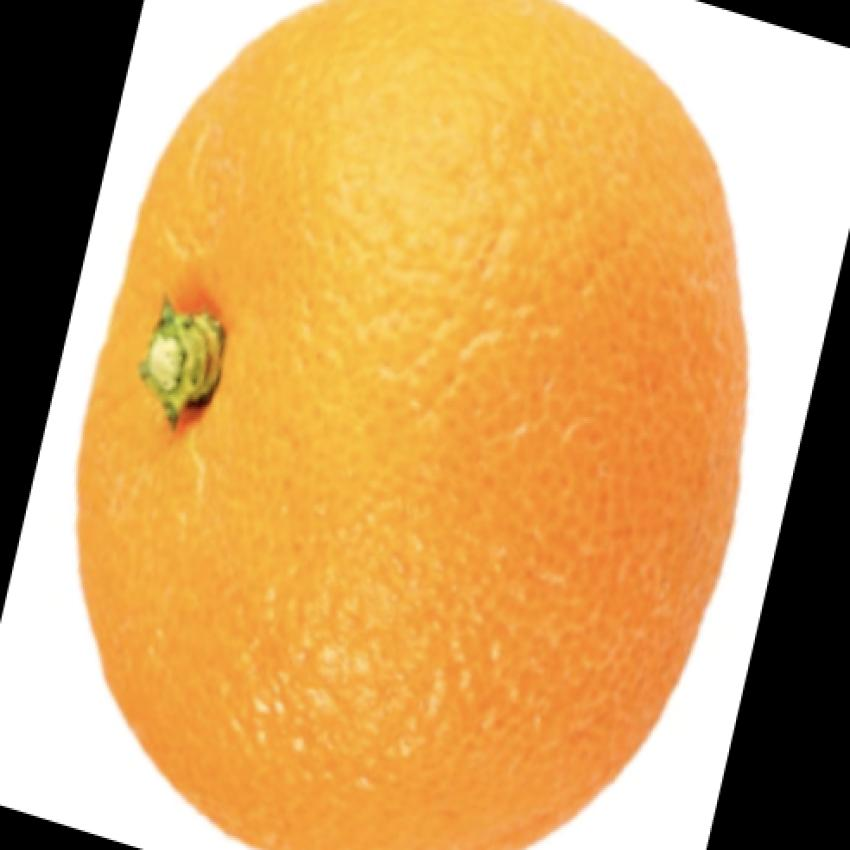Buen estado: (72, 0, 765, 848)
